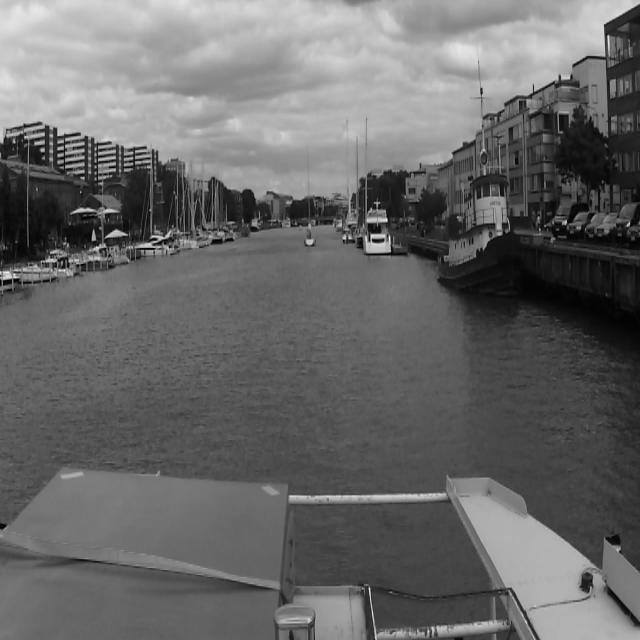ship: (438, 52, 520, 303), (20, 140, 58, 282), (156, 158, 184, 251), (192, 159, 216, 244), (362, 198, 392, 255), (304, 143, 316, 246), (81, 240, 121, 269), (136, 231, 174, 258), (217, 175, 233, 238), (0, 266, 20, 303), (250, 217, 260, 233)
